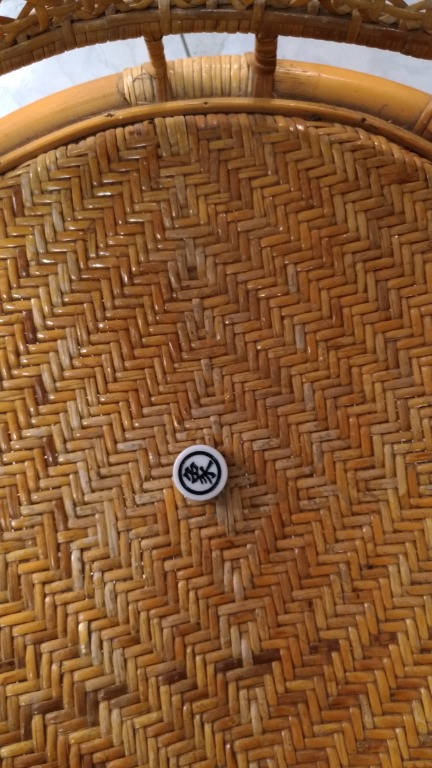b-elephant: (166, 436, 257, 512)
